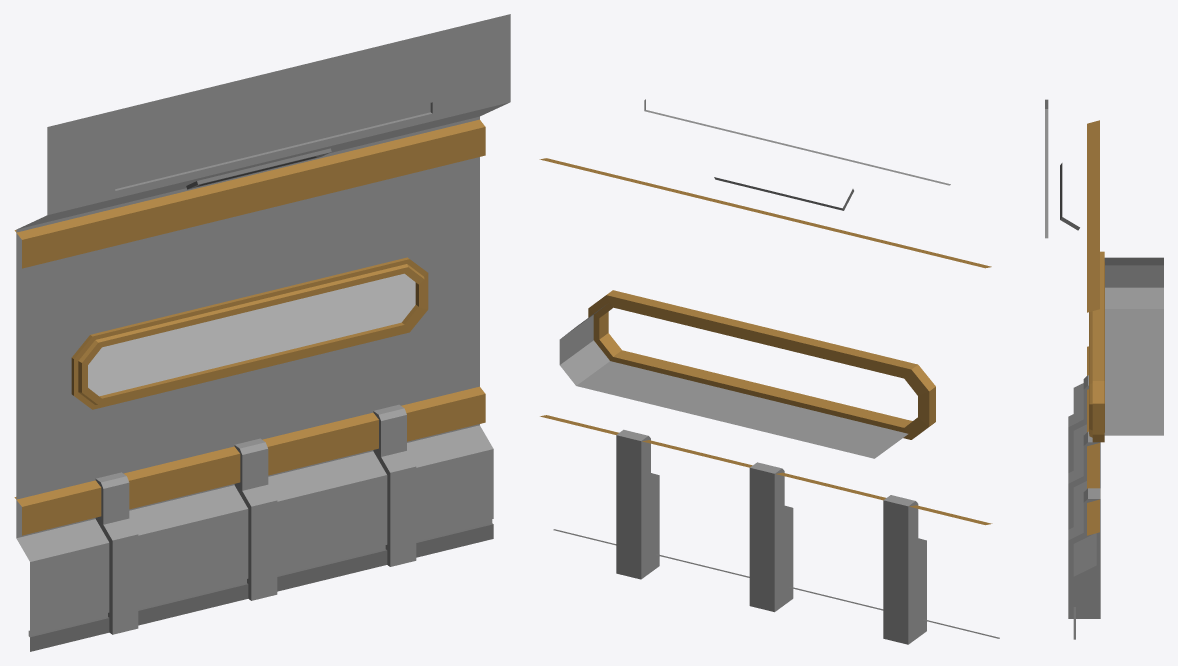
Rendered from quaternius-modular-sci-fi-long-window-wall-side-a.glb.
The picture shows the model from 3 angles, left to right: view 1: azimuth 30°, elevation 25°; view 2: azimuth 150°, elevation 25°; view 3: azimuth 270°, elevation 25°; orthographic projection. The views are drawn at different scales.
Parts seen in each view (by area): view 1: LongWindow_Wall_SideA; view 2: LongWindow_Wall_SideA; view 3: LongWindow_Wall_SideA.
Part boxes in pixels (bbox=[...]): LongWindow_Wall_SideA: bbox=[14, 14, 510, 651]; LongWindow_Wall_SideA: bbox=[539, 99, 999, 644]; LongWindow_Wall_SideA: bbox=[1045, 99, 1163, 639].
Bounding box in the file's own units: 4 × 4.43 × 1.06.
